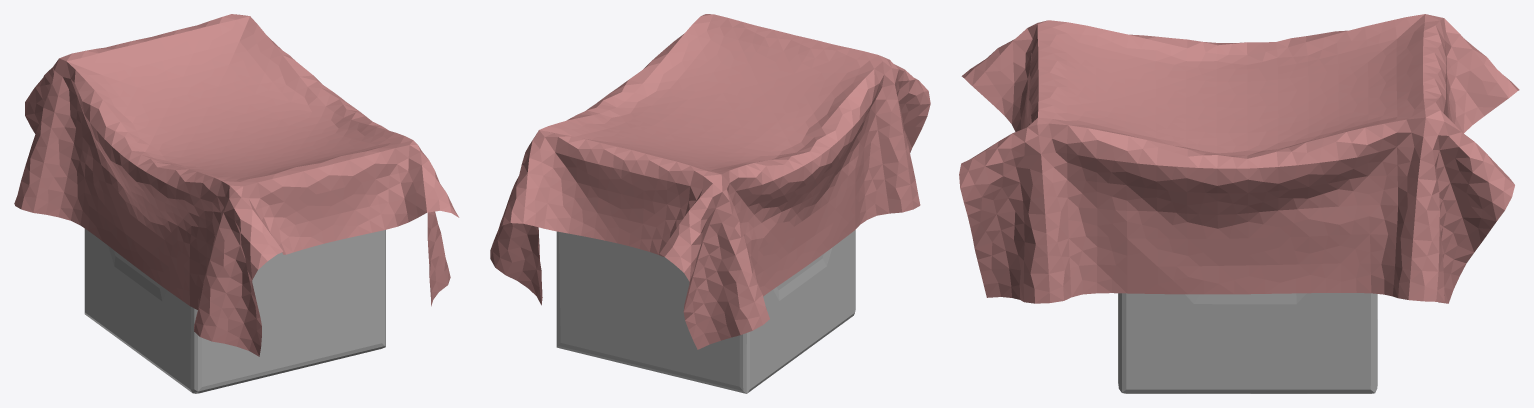
Rendered from level_1.glb.
The picture shows the model from 3 angles, left to right: view 1: azimuth 30°, elevation 25°; view 2: azimuth 150°, elevation 25°; view 3: azimuth 270°, elevation 25°; orthographic projection. The views are drawn at different scales.
Visible parts, largest first — view 1: world, object.obj; view 2: world, object.obj; view 3: world, object.obj.
Part boxes in pixels (x1=…): world: x1=14, y1=14, x2=459, y2=356; object.obj: x1=84, y1=229, x2=385, y2=393; world: x1=490, y1=14, x2=930, y2=349; object.obj: x1=556, y1=230, x2=855, y2=393; world: x1=959, y1=14, x2=1519, y2=303; object.obj: x1=1118, y1=293, x2=1377, y2=393.
Size of the model in its own units: 0.3655 by 0.2984 by 0.546.
